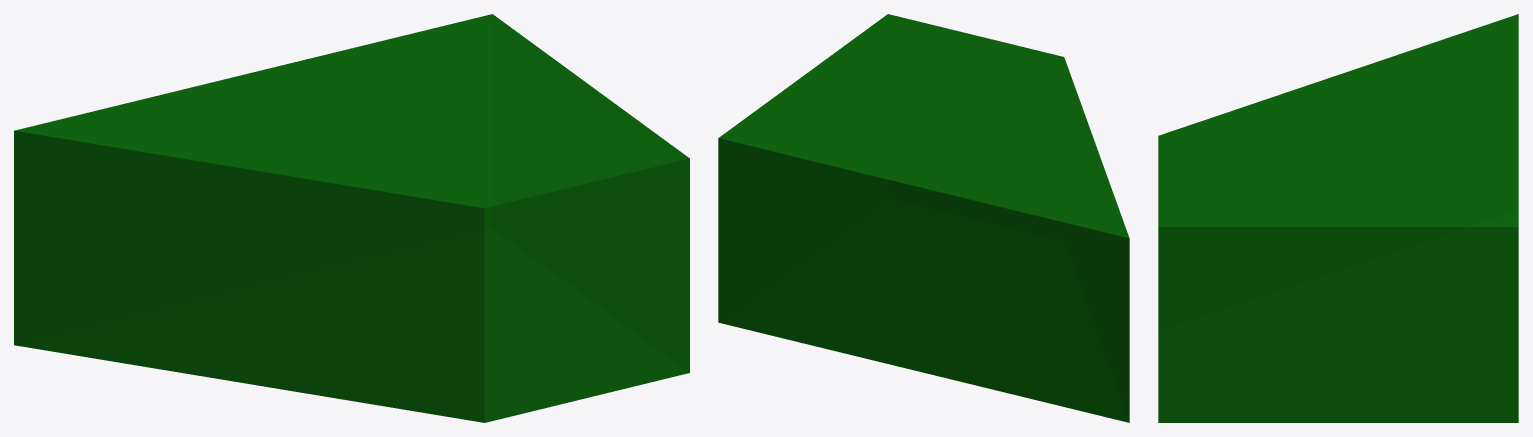
The picture shows the model from 3 angles, left to right: view 1: azimuth 30°, elevation 25°; view 2: azimuth 150°, elevation 25°; view 3: azimuth 270°, elevation 25°; orthographic projection. The views are drawn at different scales.
Visible parts, largest first — view 1: SketchUp; view 2: SketchUp; view 3: SketchUp.
Part boxes in pixels (bbox=[...]): SketchUp: bbox=[14, 14, 689, 422]; SketchUp: bbox=[718, 14, 1129, 422]; SketchUp: bbox=[1158, 14, 1518, 422].
Size of the model in its own units: 276 by 197 by 118.
